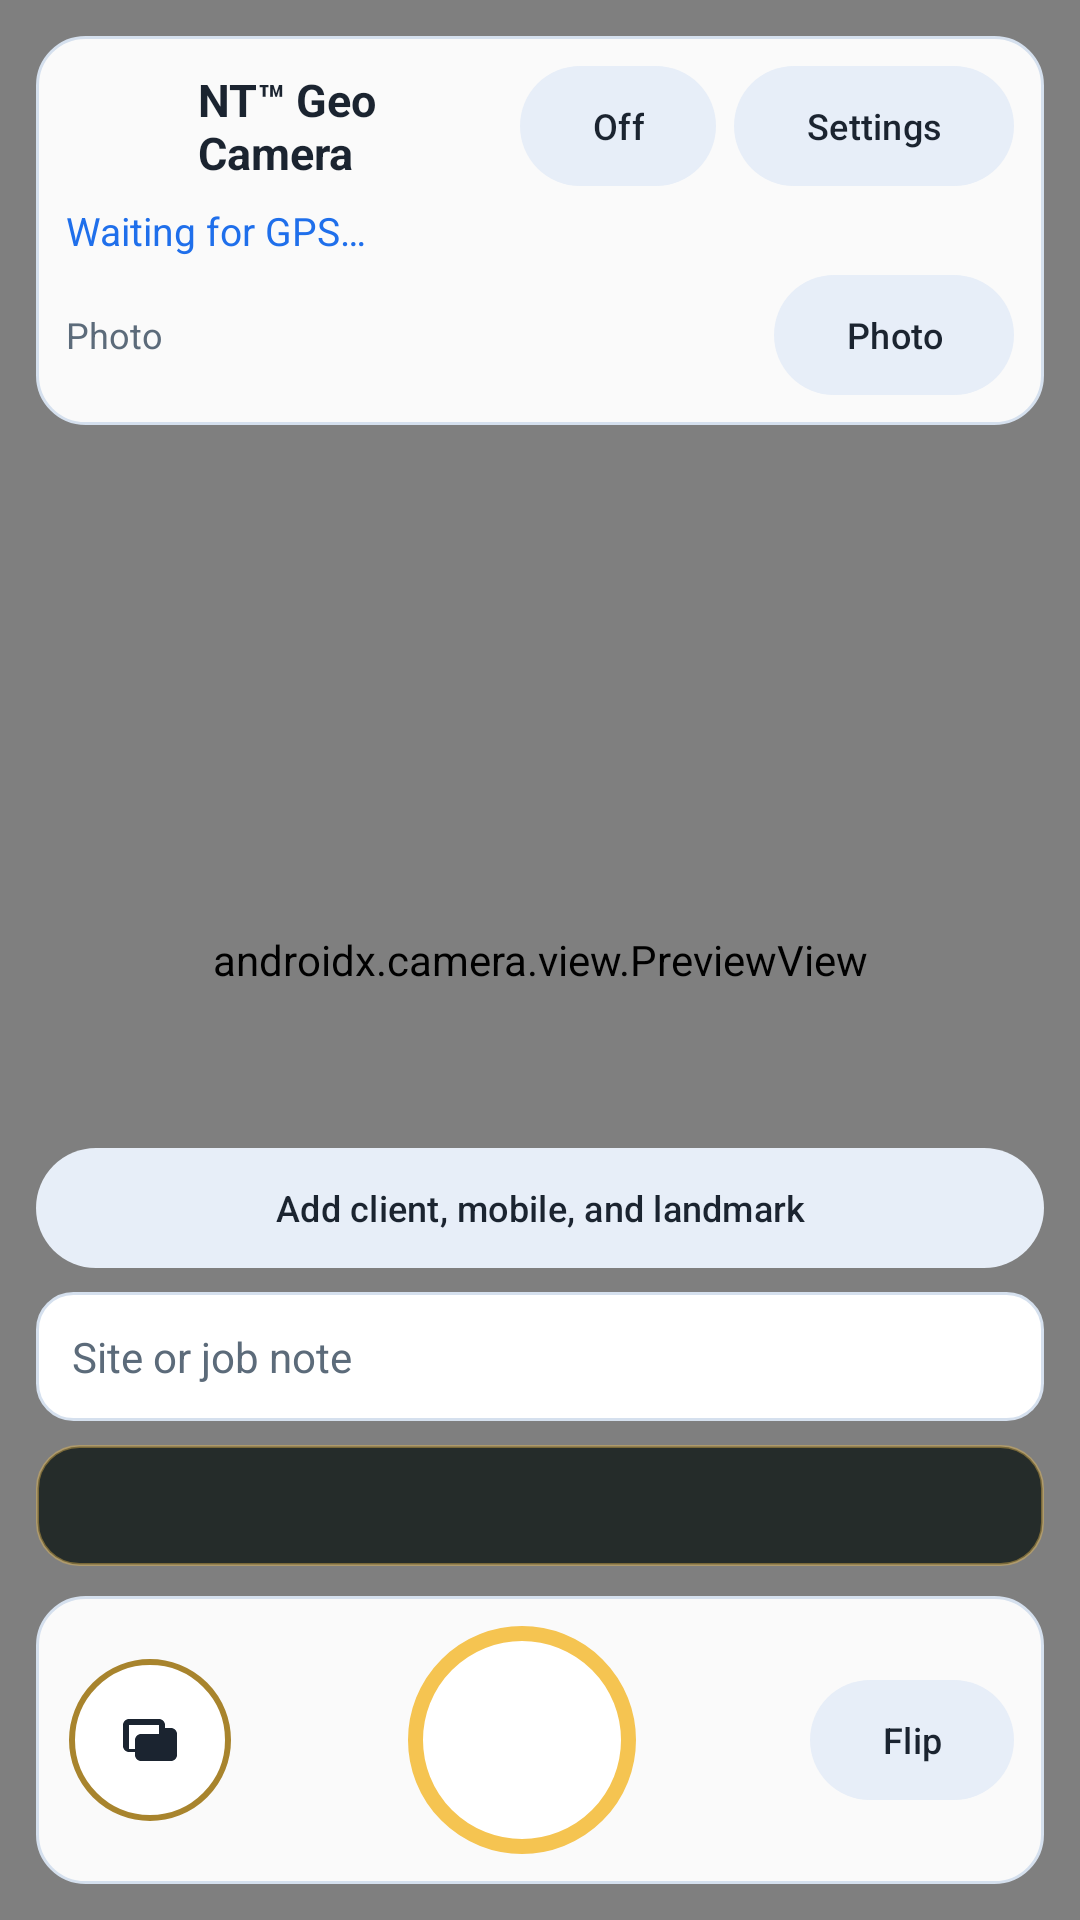

Named icons in this screenshot (1080×1920) and their bounding boxes, (x1, y1, x2, y2):
Open gallery: (69, 1659, 231, 1821)
